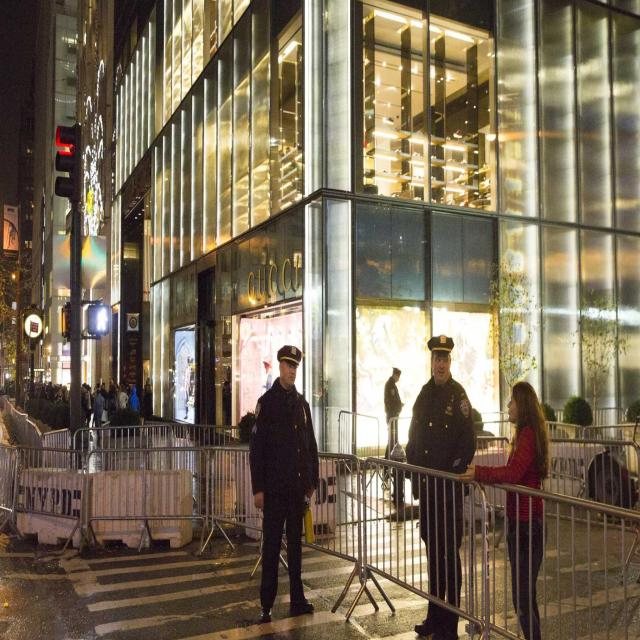body: (458, 378, 554, 640), (404, 333, 477, 639), (248, 344, 322, 620), (382, 363, 407, 479), (8, 376, 77, 407), (182, 353, 197, 418), (93, 388, 105, 440), (144, 382, 155, 436), (259, 354, 273, 394), (107, 376, 116, 423), (84, 384, 92, 428), (106, 389, 118, 418), (130, 385, 140, 412), (119, 384, 129, 409), (100, 382, 108, 406), (114, 382, 132, 392), (81, 383, 88, 404), (89, 384, 97, 396), (144, 379, 150, 390)
